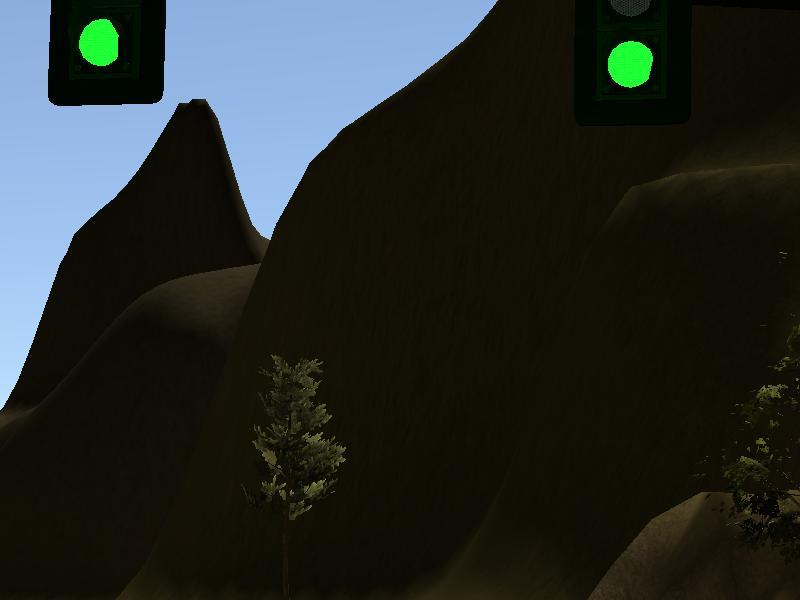Green: (573, 1, 694, 126), (50, 1, 163, 102)
